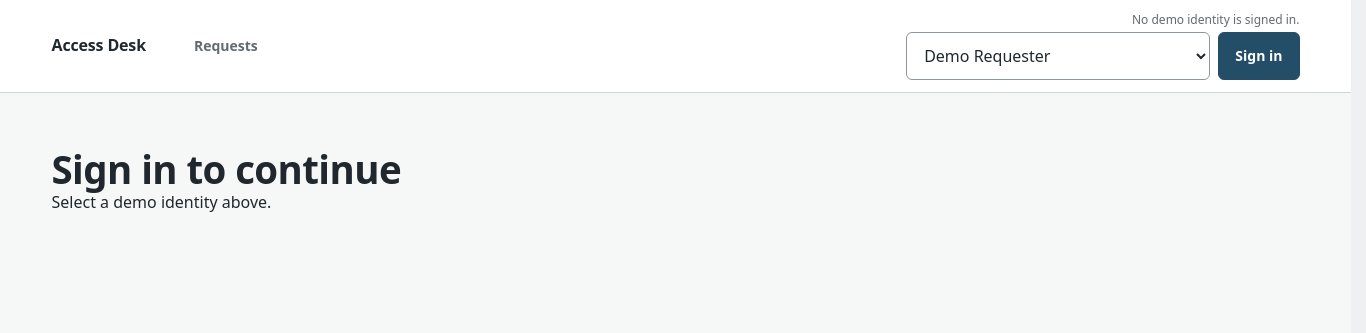
application session wiring › does not expose browser request creation or a new-request route
This screenshot has width=1366, height=333.
Expected: the heading "Sign in to continue" is shown, [52,143,401,195]
Select "Demo Requester" in the dropdown named "Demo identity" at (1058, 56), box [906,32,1210,80]
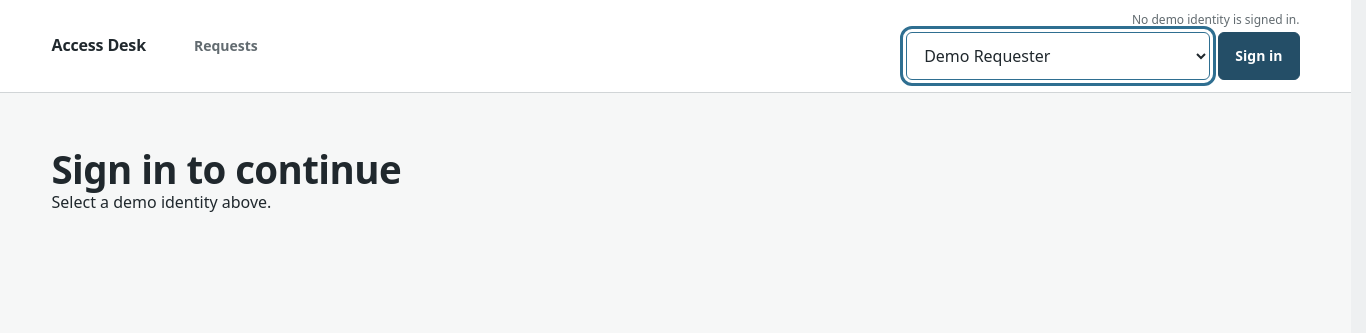
Click the button "Sign in" at (1259, 56), box [1218,32,1300,80]
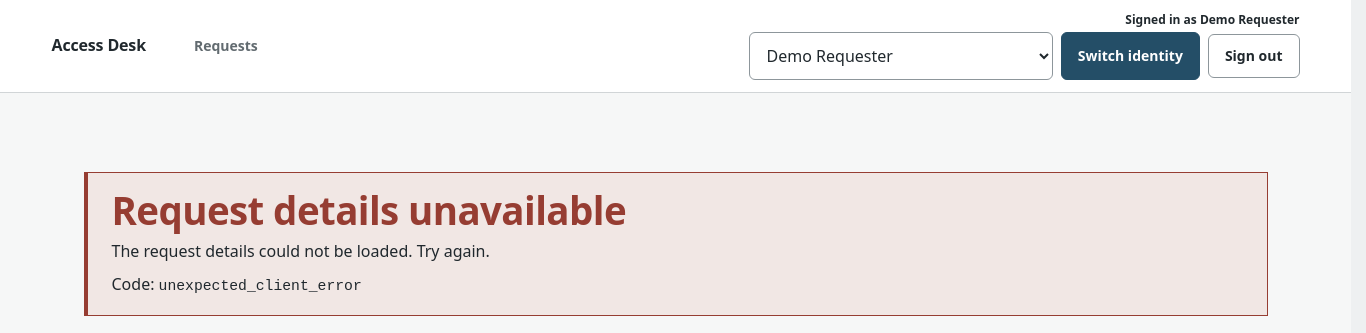
Expected: the heading "Request details unavailable" is shown, [112,184,626,236]
